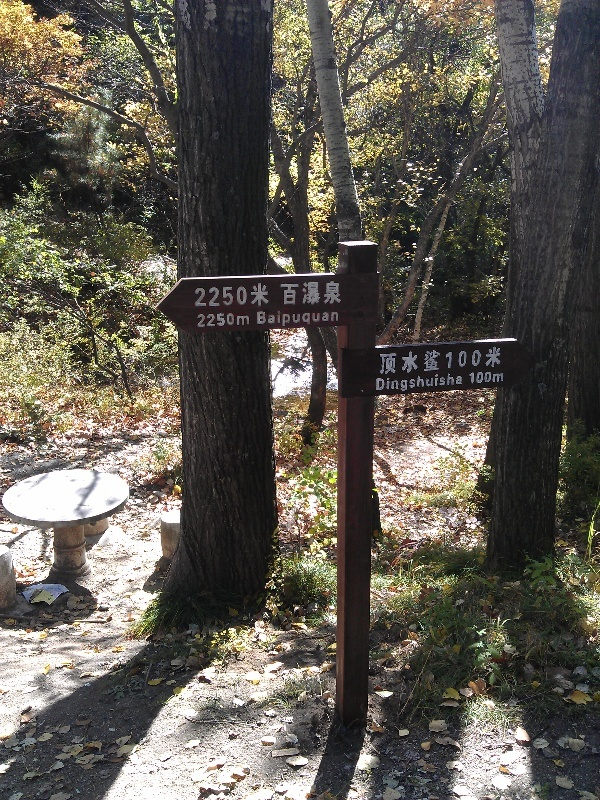text: (385, 347, 400, 376), (401, 347, 416, 376), (417, 347, 432, 376), (433, 347, 448, 376), (449, 347, 464, 376), (465, 347, 480, 376), (481, 347, 496, 376), (209, 282, 224, 310), (225, 282, 240, 310), (241, 282, 256, 310), (289, 280, 304, 307), (305, 280, 320, 307), (321, 280, 336, 307), (194, 282, 208, 310), (257, 282, 271, 310), (385, 372, 400, 394), (401, 372, 416, 394), (417, 372, 432, 394), (433, 372, 448, 394), (449, 372, 464, 394), (257, 308, 272, 328), (273, 308, 288, 328), (289, 308, 304, 328), (305, 308, 320, 328), (321, 308, 336, 328), (279, 280, 288, 307), (209, 312, 224, 328), (225, 312, 240, 328), (481, 370, 496, 385), (197, 312, 208, 328), (376, 372, 384, 394), (469, 370, 480, 385), (241, 312, 251, 328), (337, 280, 342, 307), (497, 370, 505, 385), (380, 347, 384, 376), (497, 347, 501, 376), (337, 308, 339, 328)
